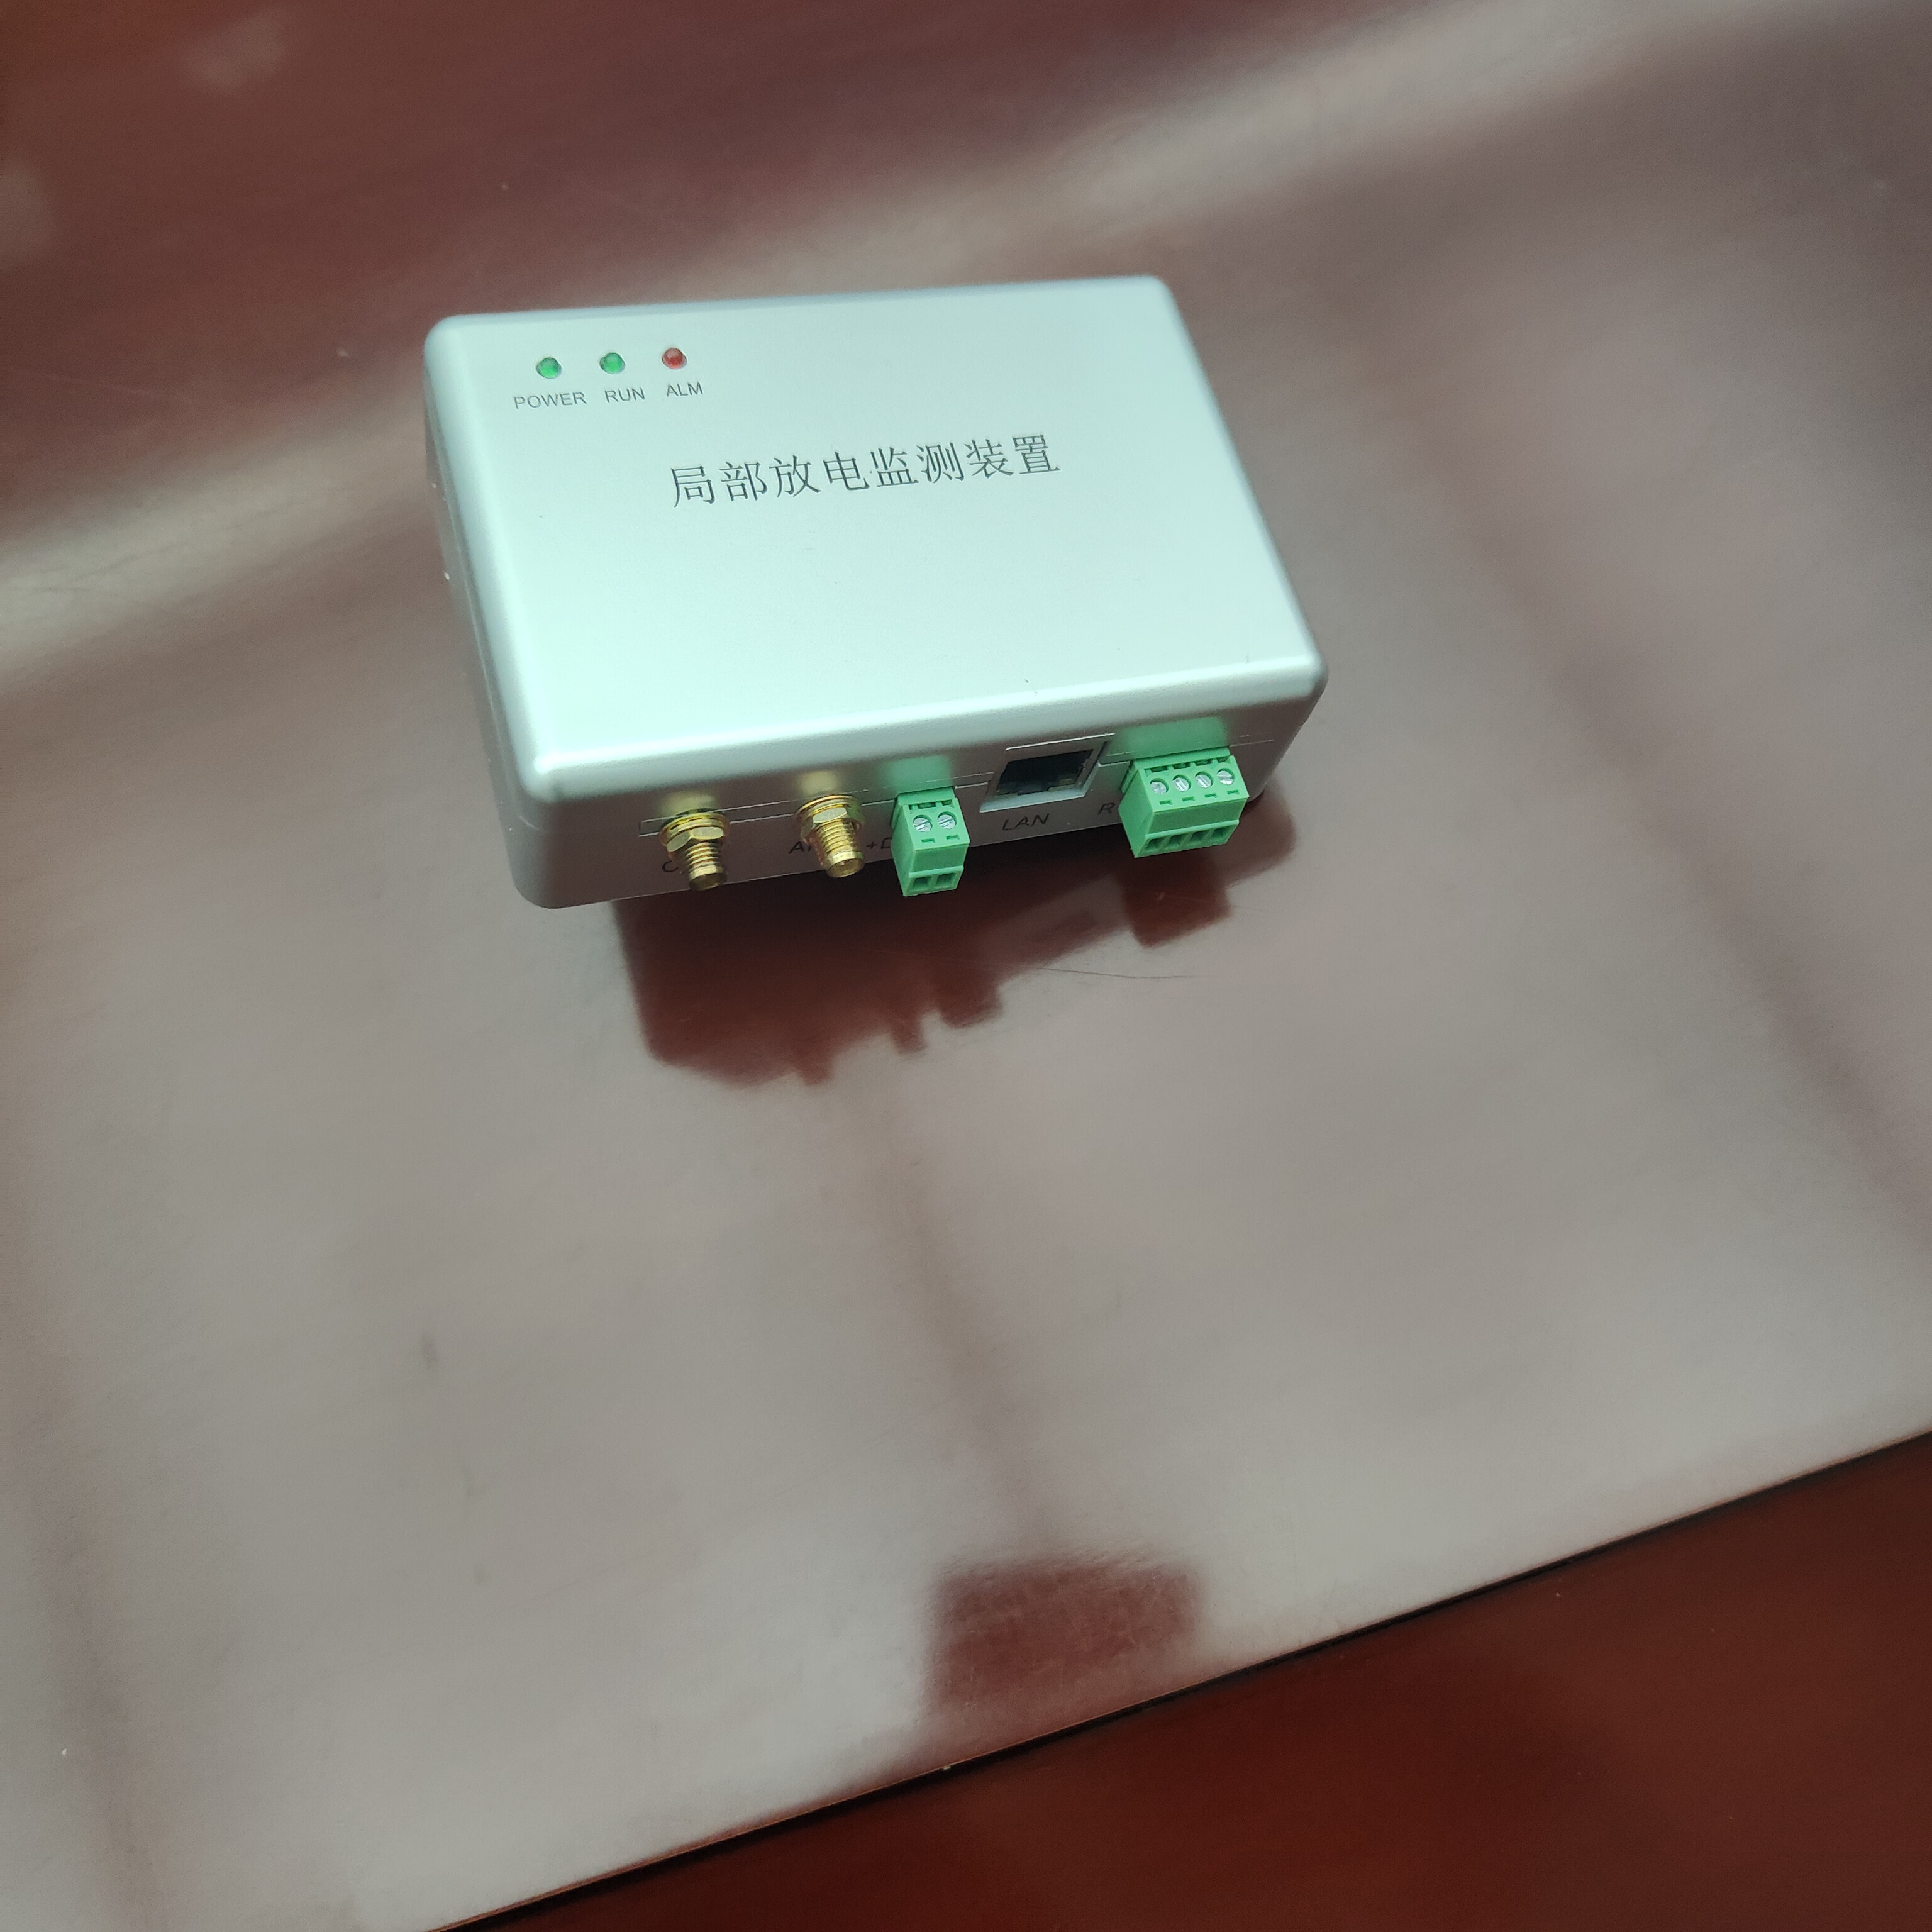jbfdjc: (405, 234, 1359, 936)
